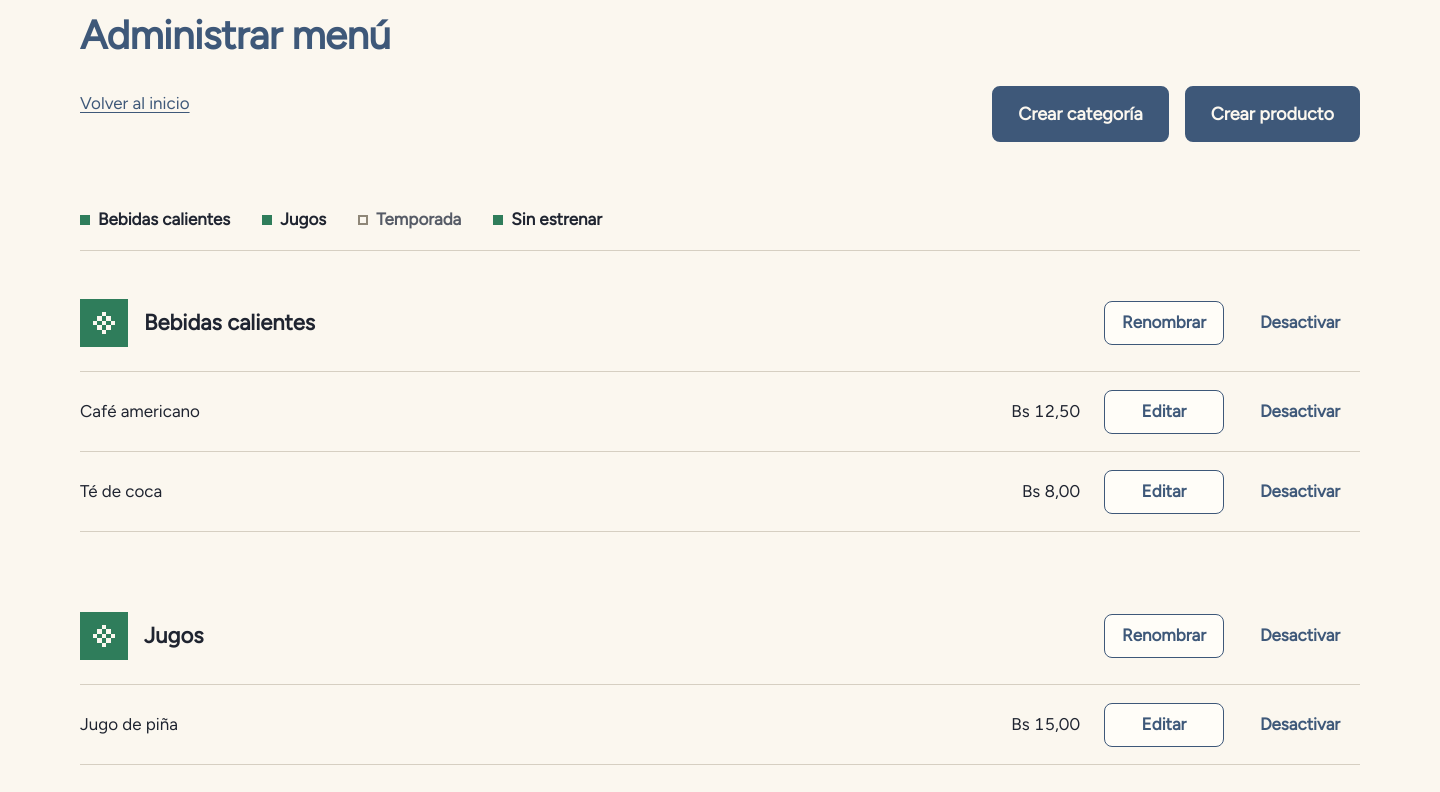
Test: administración del menú (RF-1, RF-2) › avisa de la conexión al fallar una acción sin cambiar su estado (RF-7)
The width and height of the screenshot is (1440, 792).
Click the button with aria-label "Desactivar producto Café americano". click: (1300, 412)
box: [1240,390,1360,434]
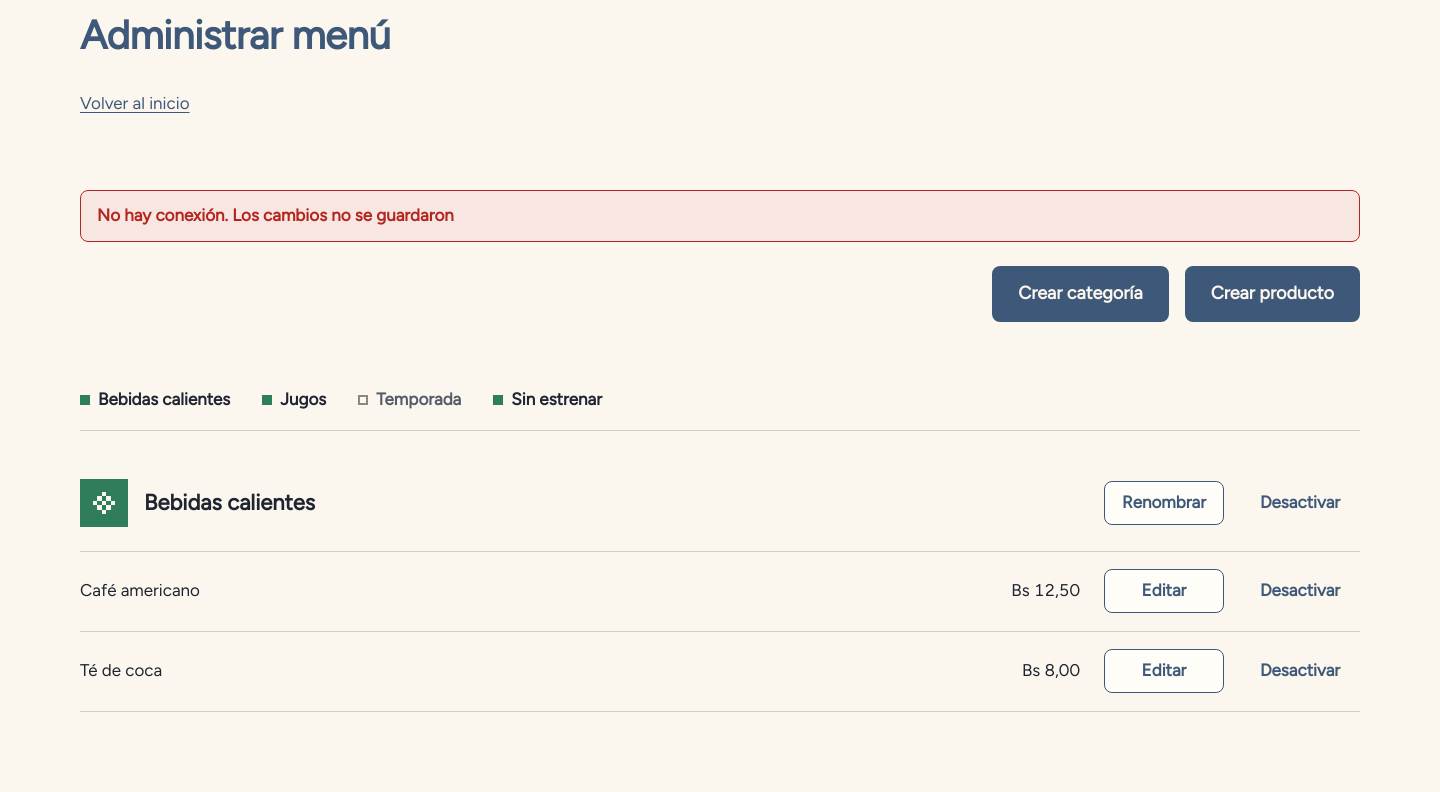
Expected: the button with aria-label "Desactivar producto Café americano" is shown, [1240,569,1360,613]
Now the text "No hay conexión. Los cambios no se guardaron" is shown, box [80,190,1360,242]
